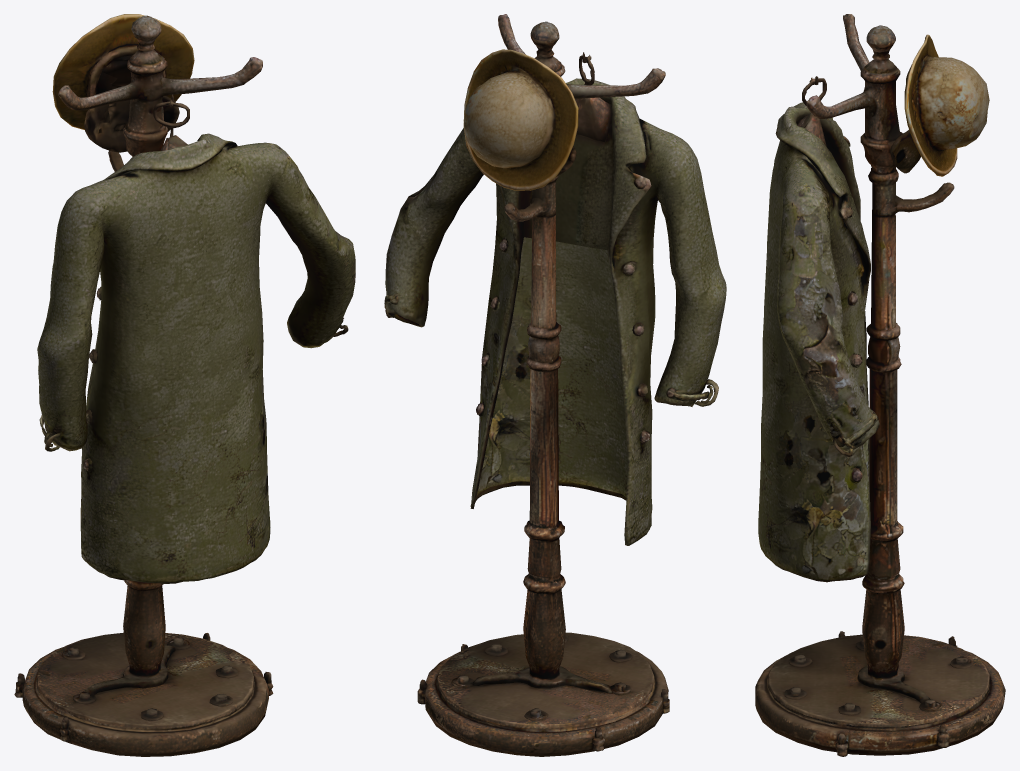
The picture shows the model from 3 angles, left to right: view 1: azimuth 30°, elevation 25°; view 2: azimuth 150°, elevation 25°; view 3: azimuth 270°, elevation 25°; orthographic projection.
Parts seen in each view (by area): view 1: tripo_node_f73afde0-45ab-4c77-92fa-56761bf7780c; view 2: tripo_node_f73afde0-45ab-4c77-92fa-56761bf7780c; view 3: tripo_node_f73afde0-45ab-4c77-92fa-56761bf7780c.
Boxes of the visible parts, left/top/right/bottom form: tripo_node_f73afde0-45ab-4c77-92fa-56761bf7780c: left=14, top=14, right=355, bottom=756; tripo_node_f73afde0-45ab-4c77-92fa-56761bf7780c: left=384, top=14, right=726, bottom=756; tripo_node_f73afde0-45ab-4c77-92fa-56761bf7780c: left=755, top=14, right=1005, bottom=756.
Bounding box in the file's own units: 0.4902 × 0.998 × 0.334.
Materials: 1 (1 with a texture image).
